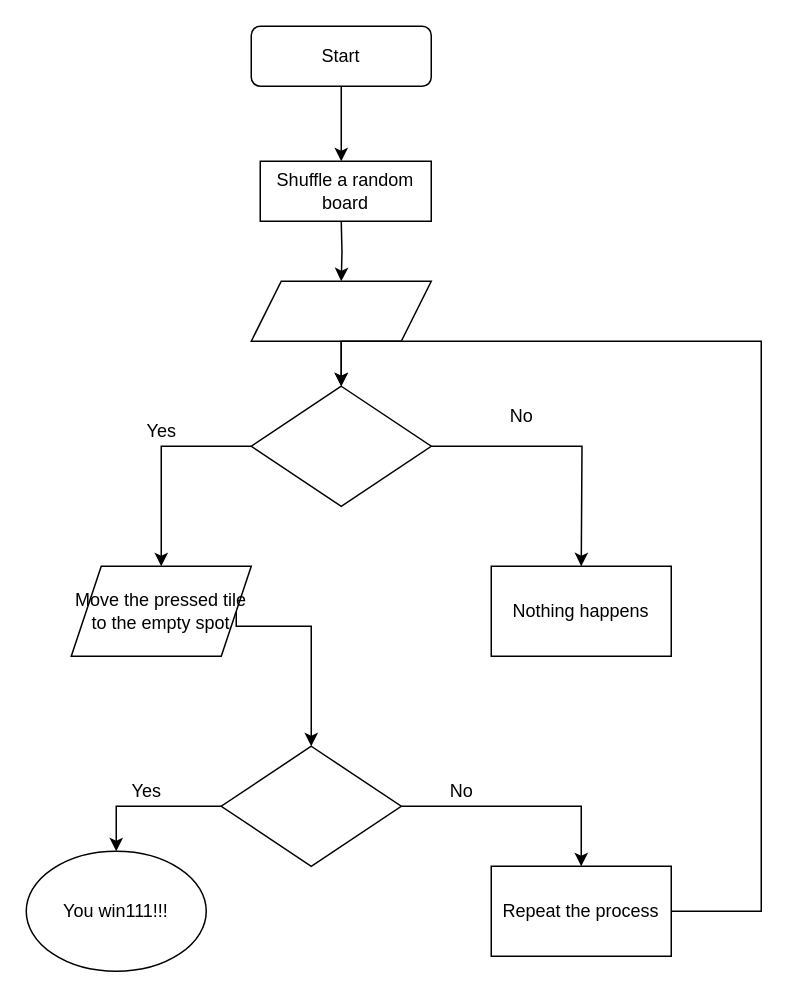
This 800x998 diagram has some shape labels left out. The box of each missing label's shape, as (x1, y1, x2, y2) in pixels:
Click on a tile: (250, 280, 431, 341)
Is the game won?: (220, 745, 401, 866)
Is the spot next to it empty?: (250, 385, 431, 506)
